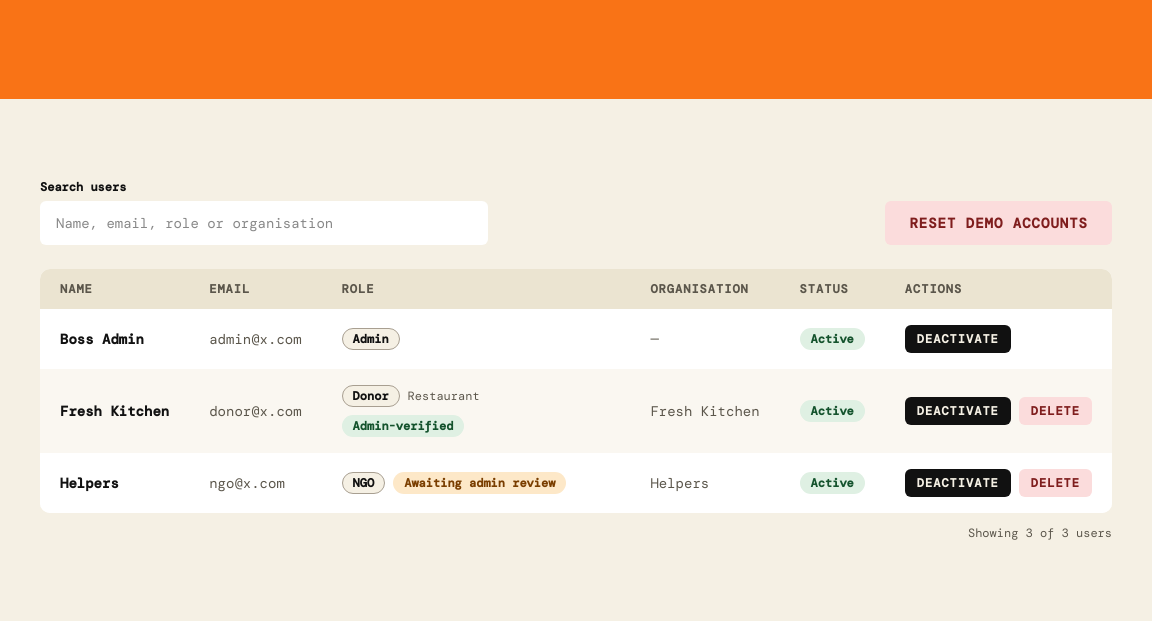
Test: delete controls › keeps the row and shows the error when the server refuses
(page scrolled)
Expected: the table is shown, [40,269,1112,513]
Step 1. Click the button "Delete" in the row of "ngo@x.com" → (1055, 483), box [1019,469,1092,497]
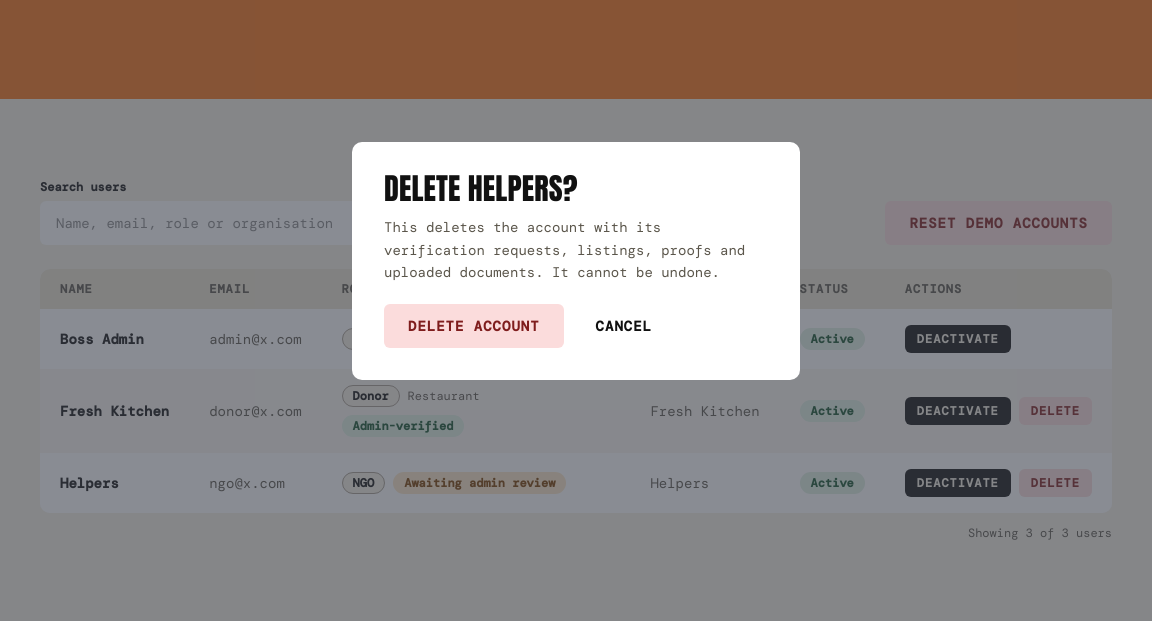
Step 2. Click the button "Delete account" → (474, 326), box [384,304,564,348]
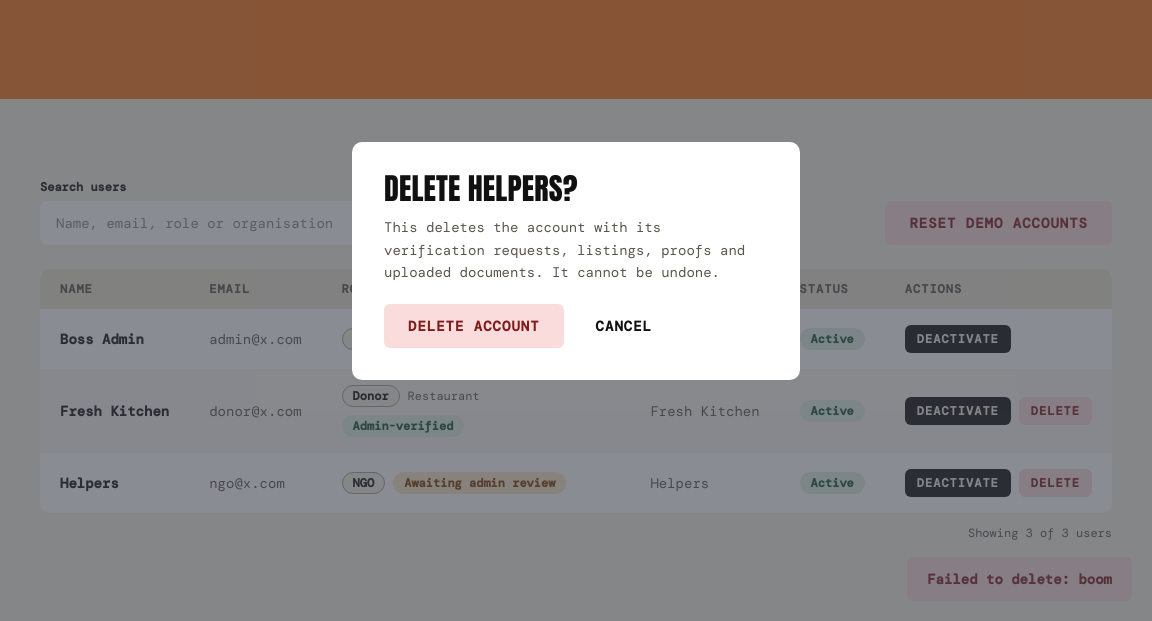
Expected: the text "ngo@x.com" is shown, [189,453,322,513]
Now the text "Failed to delete: boom" is shown, box [907,557,1132,601]
